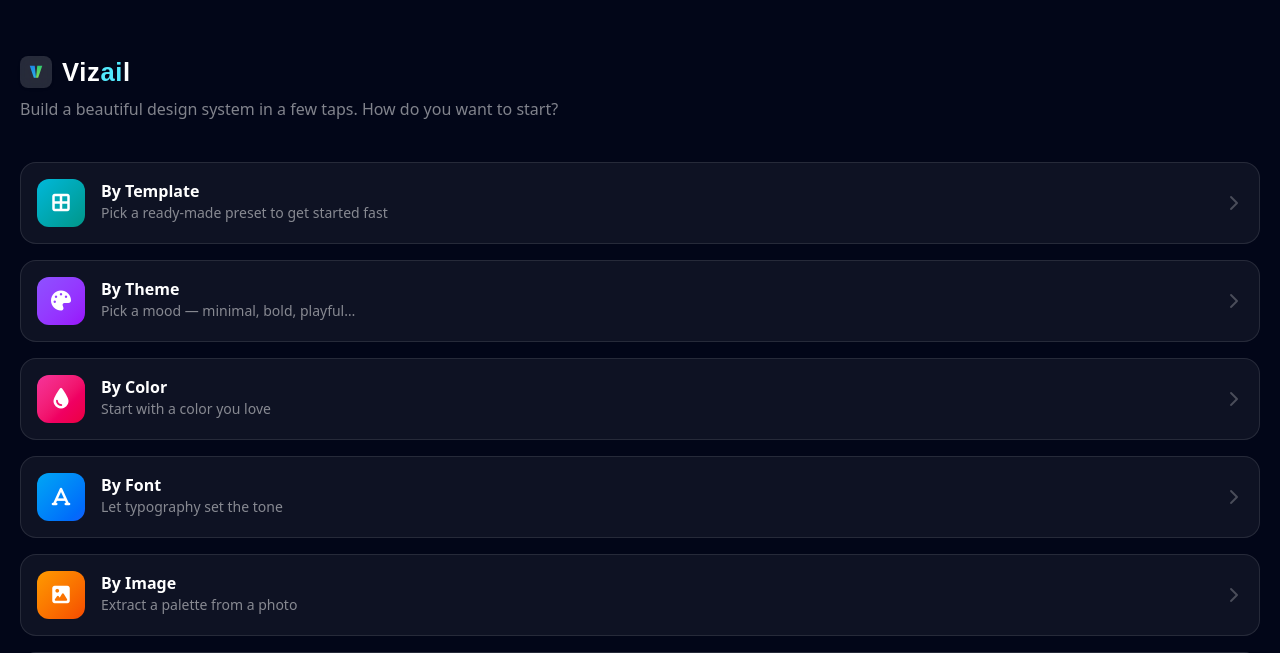
Test: MobileFlowShell › navigates to the template pick step when "By Template" is tapped (#213)
The width and height of the screenshot is (1280, 653).
Click the button with aria-label "Start by By Template".
click(61, 203)  # box [20, 162, 1260, 244]
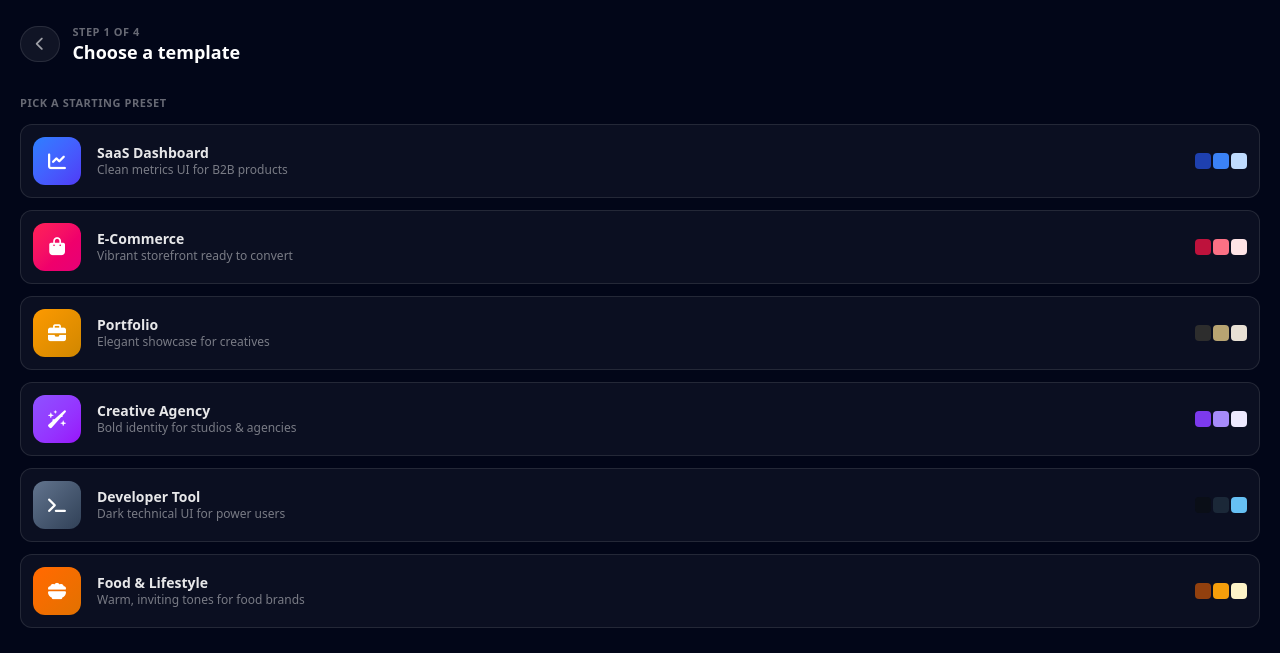
Expected: the heading "Choose a template" is shown, [72, 40, 240, 63]
